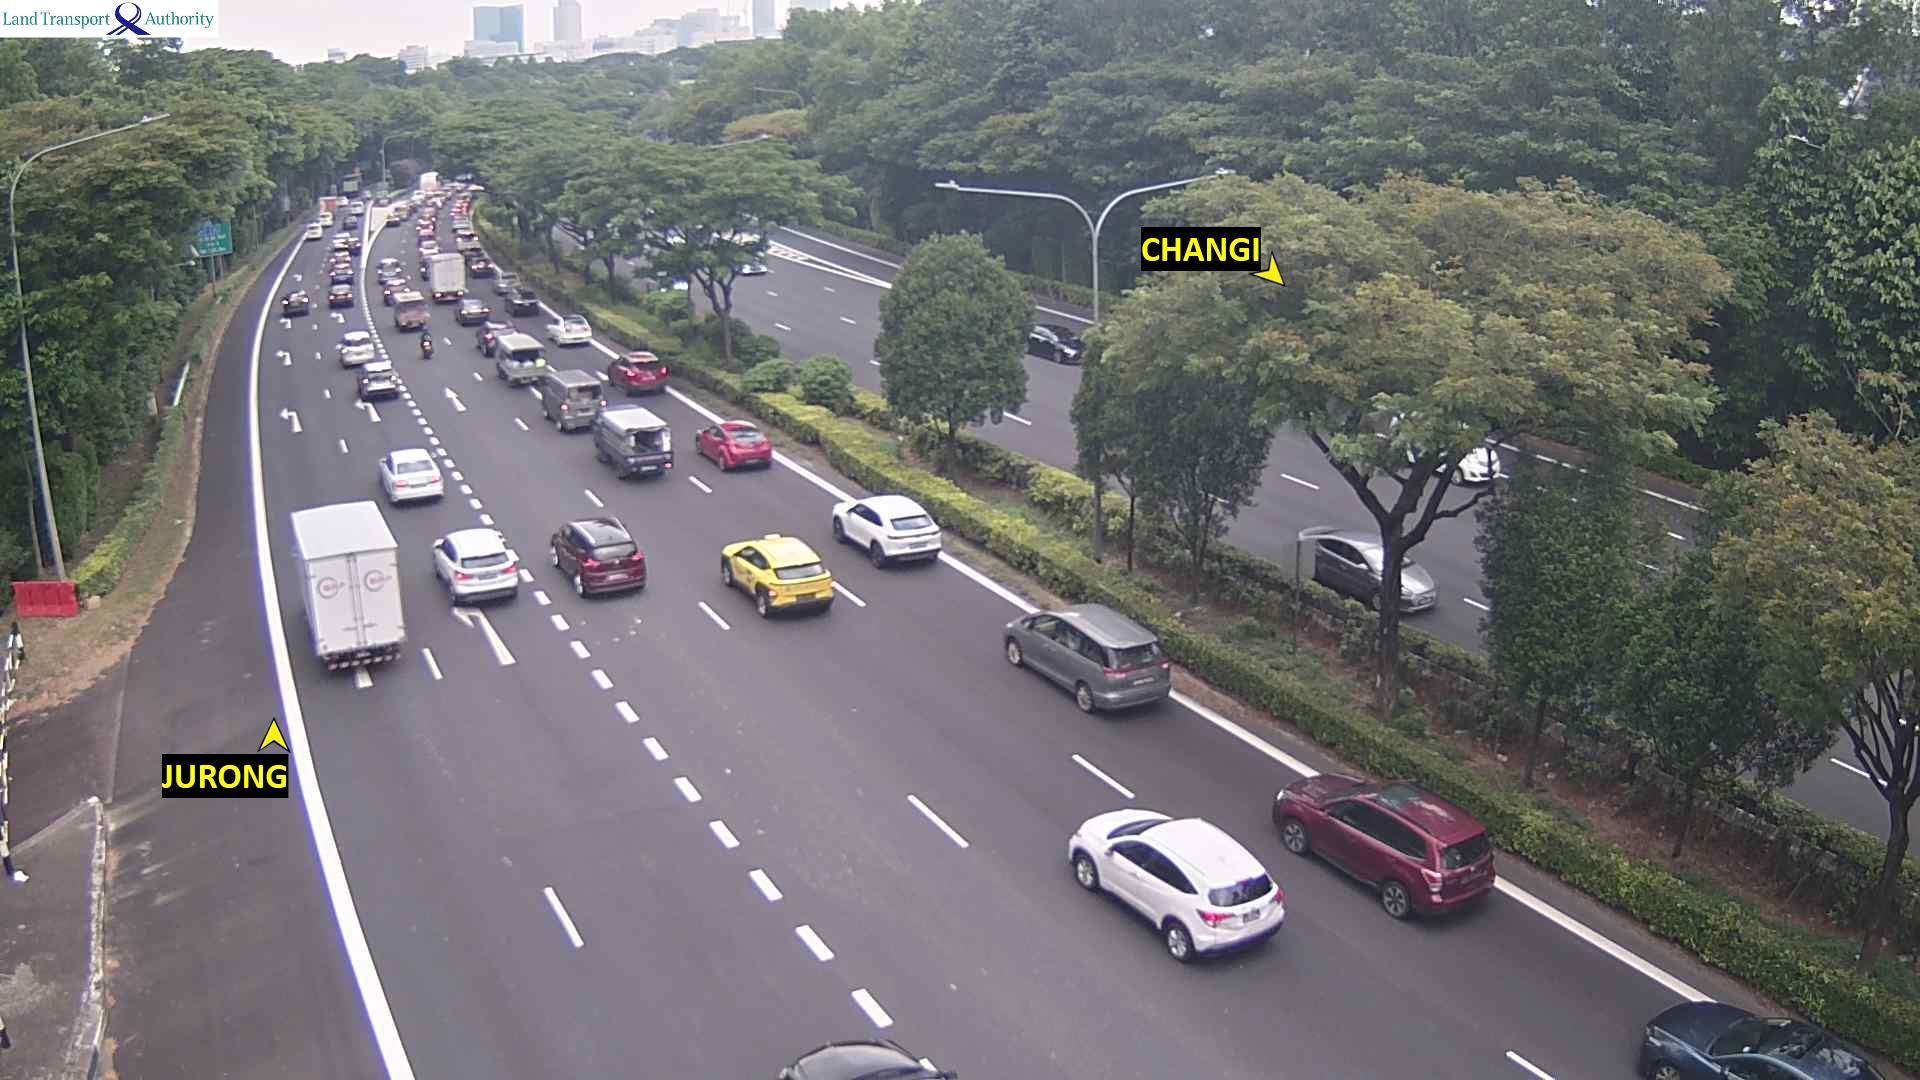bus: (688, 218, 769, 276)
cars: (1065, 806, 1284, 963), (1271, 770, 1495, 920), (1636, 1000, 1884, 1079), (1001, 603, 1172, 713), (1309, 533, 1437, 615), (719, 531, 833, 618), (829, 492, 942, 568), (549, 514, 646, 597), (777, 1036, 956, 1077), (430, 526, 520, 605), (591, 404, 673, 477), (527, 367, 607, 433), (694, 418, 771, 471), (376, 446, 444, 504), (493, 331, 553, 386), (607, 349, 669, 394), (1453, 442, 1506, 484), (1031, 324, 1085, 364), (356, 357, 400, 400), (336, 328, 377, 367), (546, 313, 592, 345), (392, 291, 431, 330), (475, 319, 516, 355), (642, 269, 700, 293), (502, 284, 538, 315), (454, 295, 491, 324), (382, 276, 411, 306), (452, 228, 483, 256), (280, 289, 311, 315), (375, 255, 401, 282), (326, 282, 353, 307), (468, 253, 497, 277), (493, 269, 518, 293), (327, 261, 353, 282), (415, 240, 443, 260), (419, 257, 440, 282), (414, 219, 439, 240), (328, 229, 352, 251), (328, 249, 355, 265), (348, 199, 371, 216), (386, 206, 405, 225), (305, 219, 323, 239), (451, 215, 472, 231), (316, 210, 334, 227), (342, 214, 359, 231), (422, 204, 440, 219)
motorcycle: (419, 328, 434, 359)
trucks: (287, 498, 406, 673), (427, 252, 473, 303), (315, 194, 342, 219)
